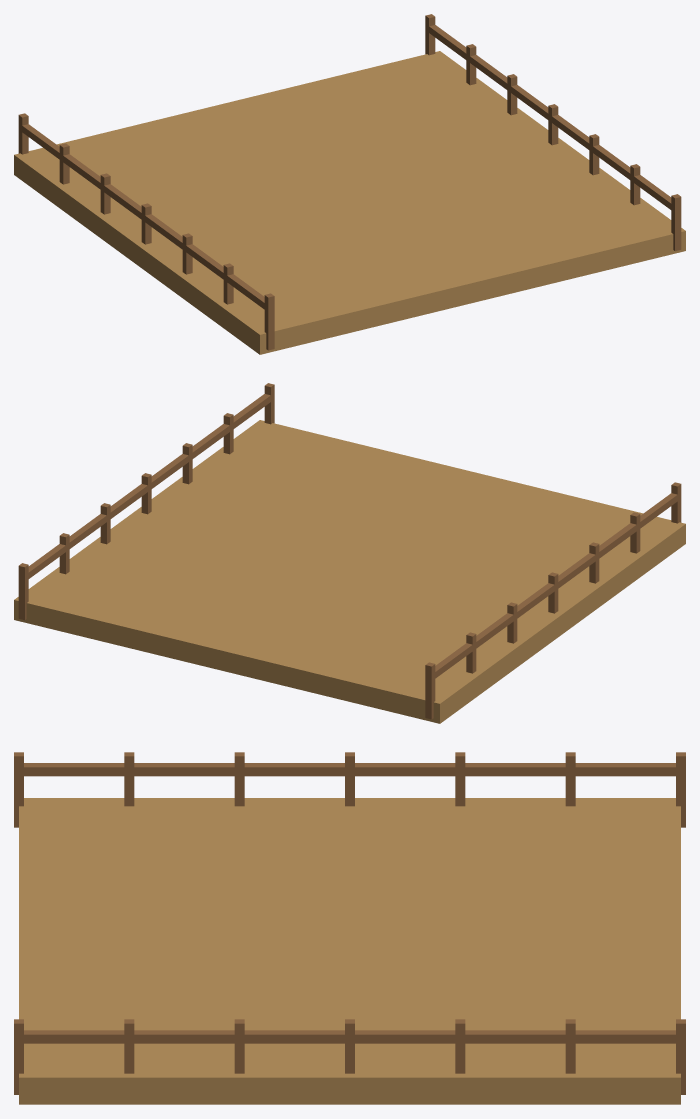
Rendered from Mush_MapProp_WoodBridge_V2.fbx.
3 renders of one model, top to bottom at view 1: azimuth 30°, elevation 25°; view 2: azimuth 150°, elevation 25°; view 3: azimuth 270°, elevation 25°, orthographic. The views are drawn at different scales.
Visible parts, largest first — view 1: Mush_MapProp_WoodBridge_V2; view 2: Mush_MapProp_WoodBridge_V2; view 3: Mush_MapProp_WoodBridge_V2.
Boxes of the visible parts, x1,y1,x2,y2 form: Mush_MapProp_WoodBridge_V2: (14,14,685,354); Mush_MapProp_WoodBridge_V2: (14,383,685,723); Mush_MapProp_WoodBridge_V2: (14,752,685,1104).
Bounding box in the file's own units: 800 × 103 × 812.
